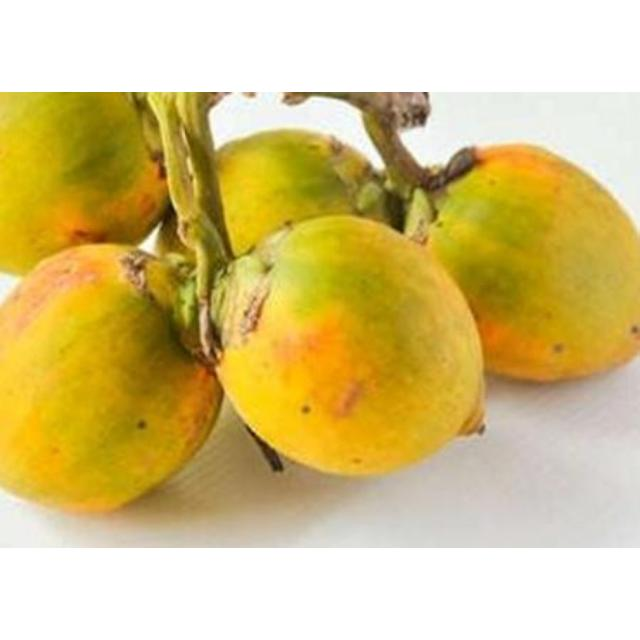good: (217, 214, 485, 476), (0, 243, 222, 513), (418, 144, 640, 384), (2, 92, 176, 274), (174, 131, 382, 263)
